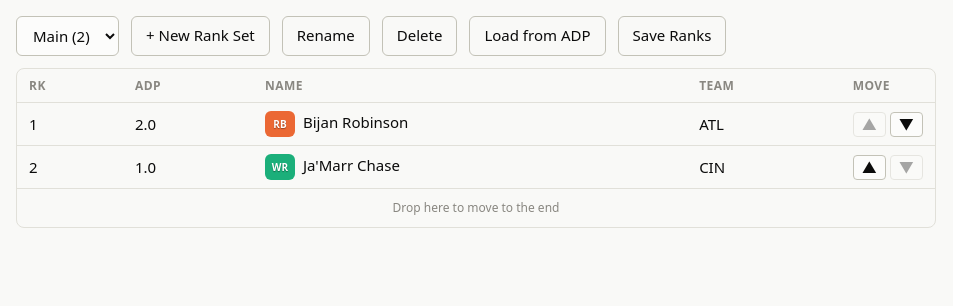
Test: RankingsPage › deleting the selected rank set requires a confirm click
Check: the text "Bijan Robinson" is shown, box x1=303 y1=112 x2=408 y2=132
Click the button "Delete".
click(420, 36)  # box x1=382 y1=16 x2=457 y2=56
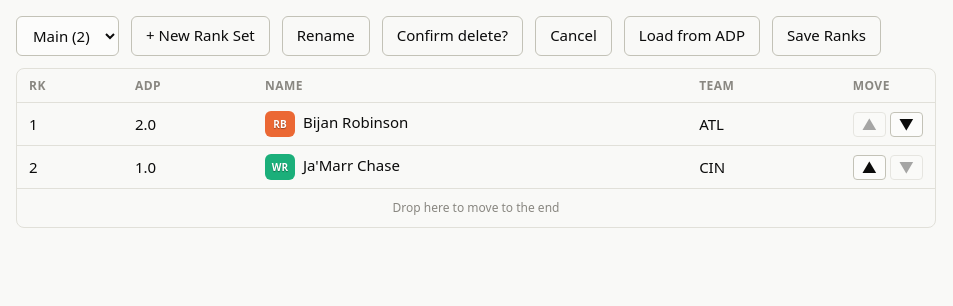
Check: the text "No rank sets for this format yet" is not shown
Click the button "Confirm delete?".
click(452, 36)  # box x1=382 y1=16 x2=523 y2=56
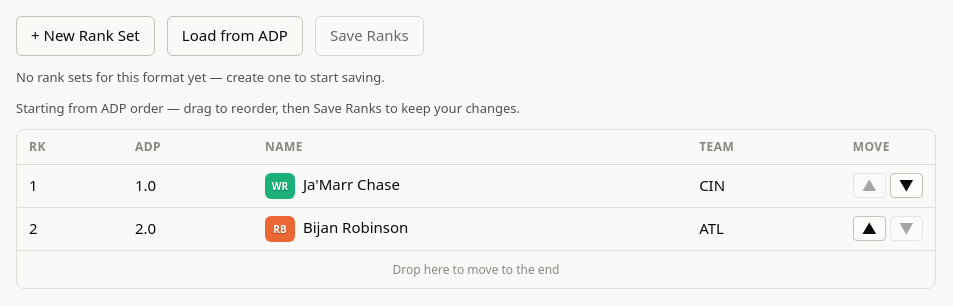
Check: the text "No rank sets for this format yet" is shown, box x1=16 y1=68 x2=385 y2=86
